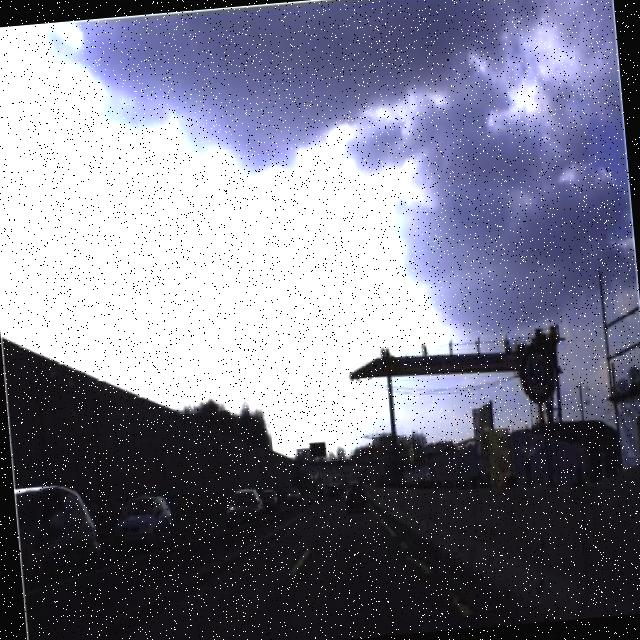Ograniczenie predkosci do 60: (515, 342, 559, 406)
